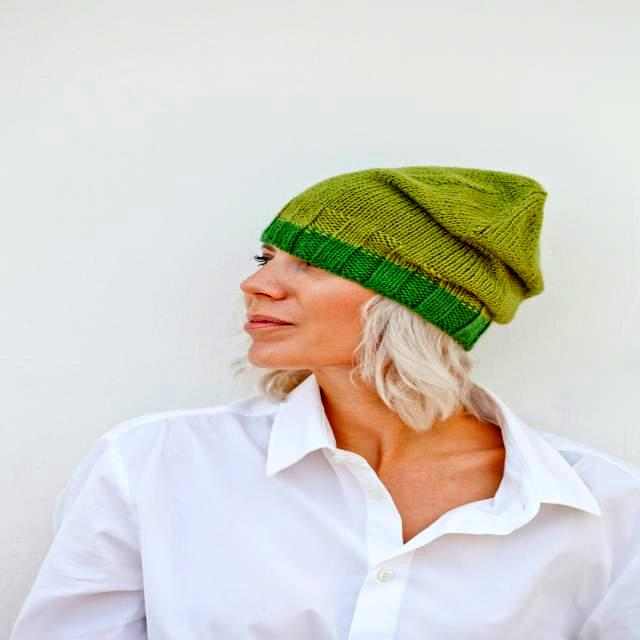no_hard_hat: (261, 167, 546, 351)
person: (13, 167, 638, 640)
